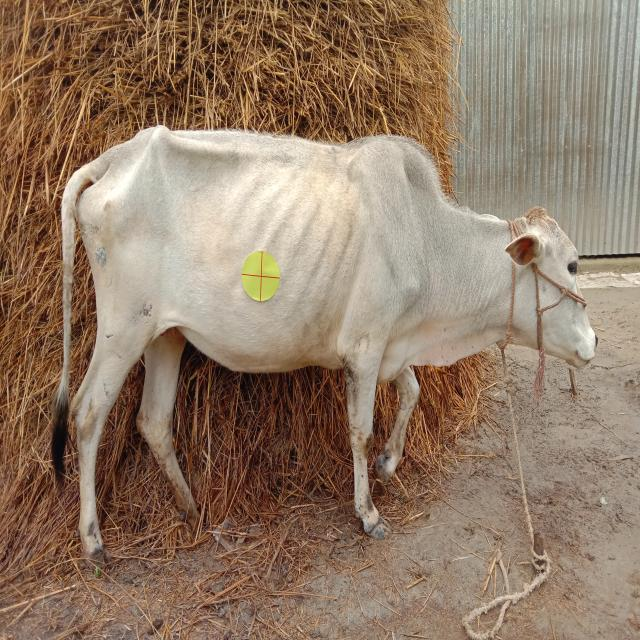badan_sapi: (77, 126, 417, 371)
sapi: (35, 107, 612, 572)
